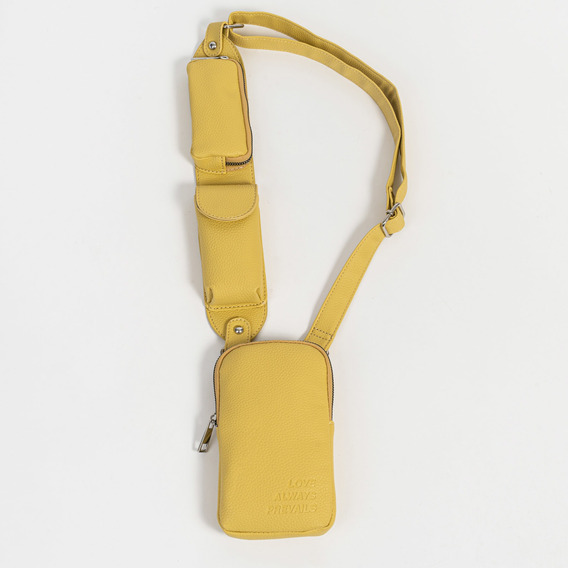cartera: (210, 334, 341, 539)
